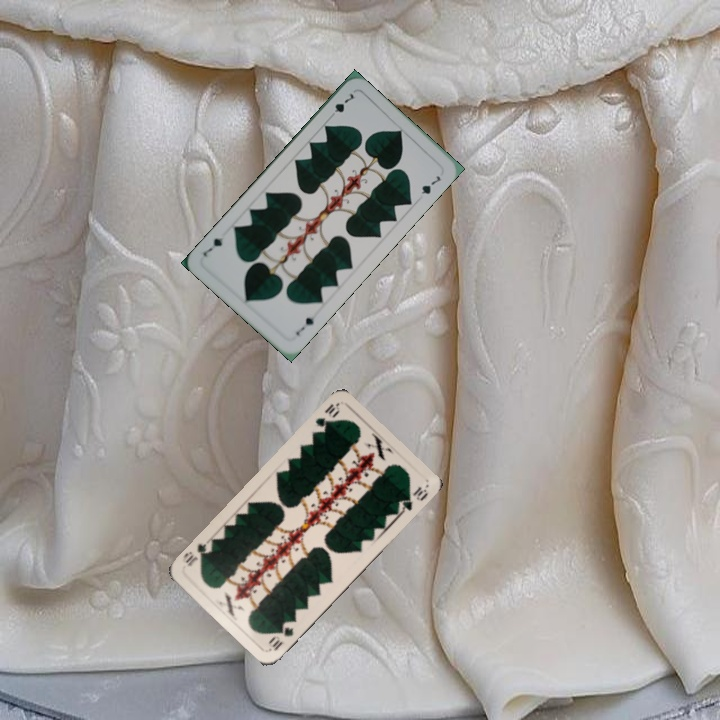G10: (311, 400, 343, 435), (266, 622, 296, 654)
G7: (325, 89, 356, 121), (292, 310, 320, 338)
